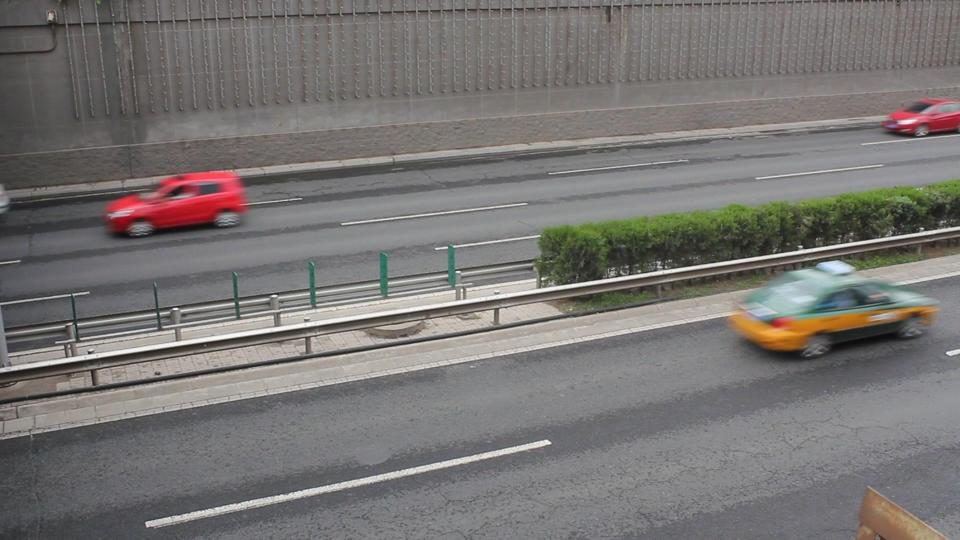car: (725, 260, 944, 359), (100, 169, 251, 238), (880, 97, 960, 137), (0, 183, 13, 217)
